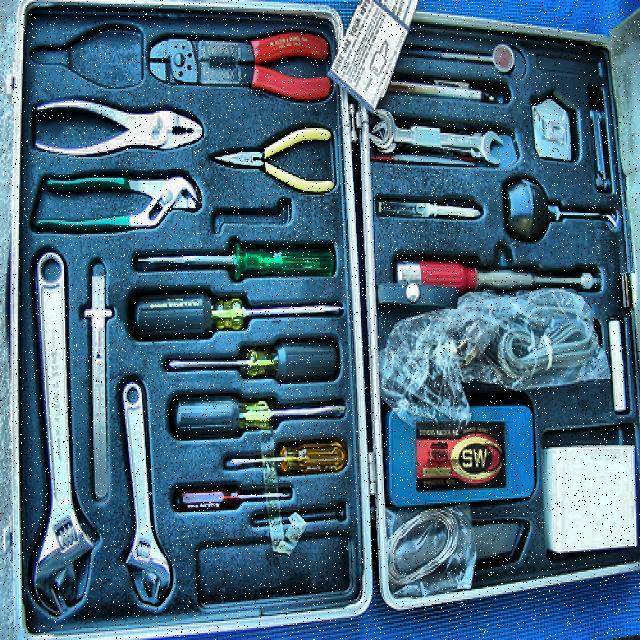screwdriver: (135, 298, 343, 334), (168, 342, 339, 382), (136, 244, 334, 278), (174, 400, 346, 432), (225, 445, 348, 473), (176, 487, 288, 512)
